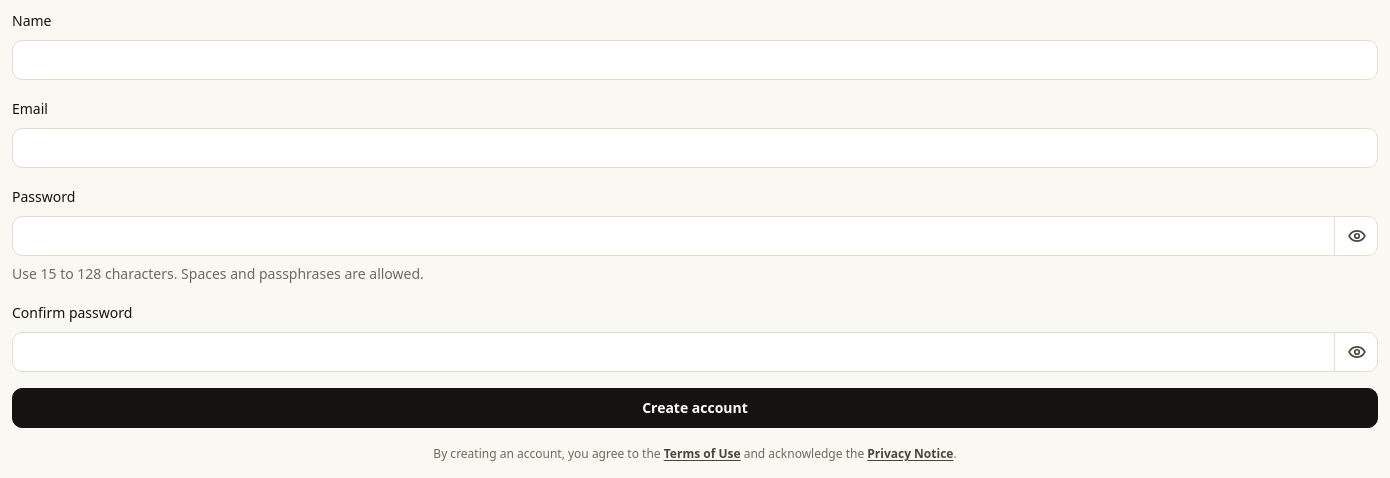
SignupForm › can toggle password visibility without losing value or focus
Type "a sufficiently long password" into the password field labelled "Password". click: (695, 236)
box: [12,216,1378,256]
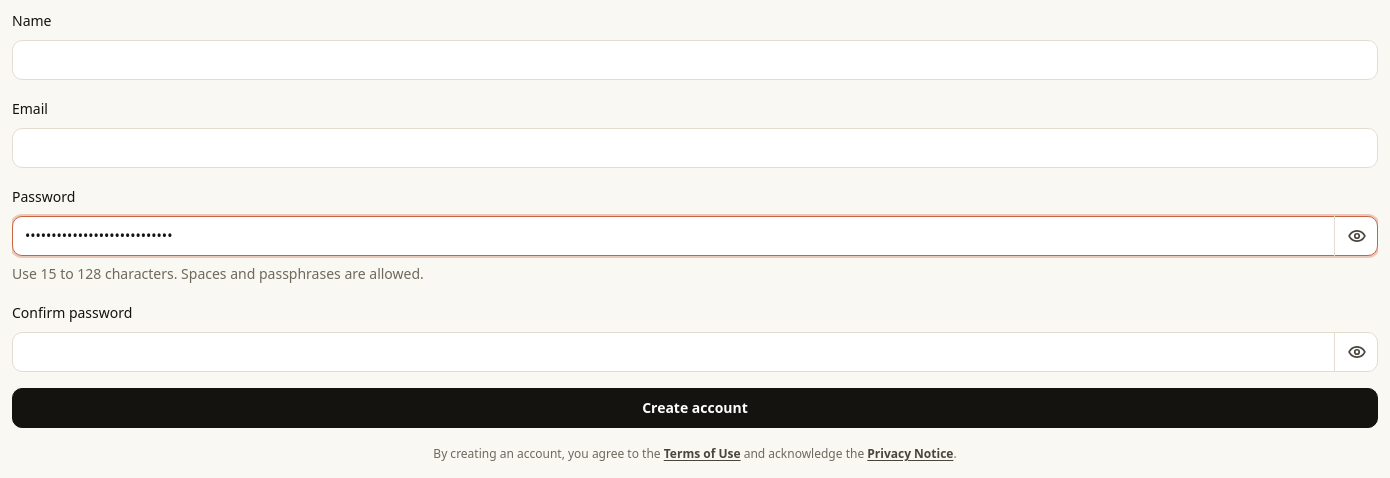
Click the 1st button named "show". click: (1356, 236)
box: [1334,216,1378,256]
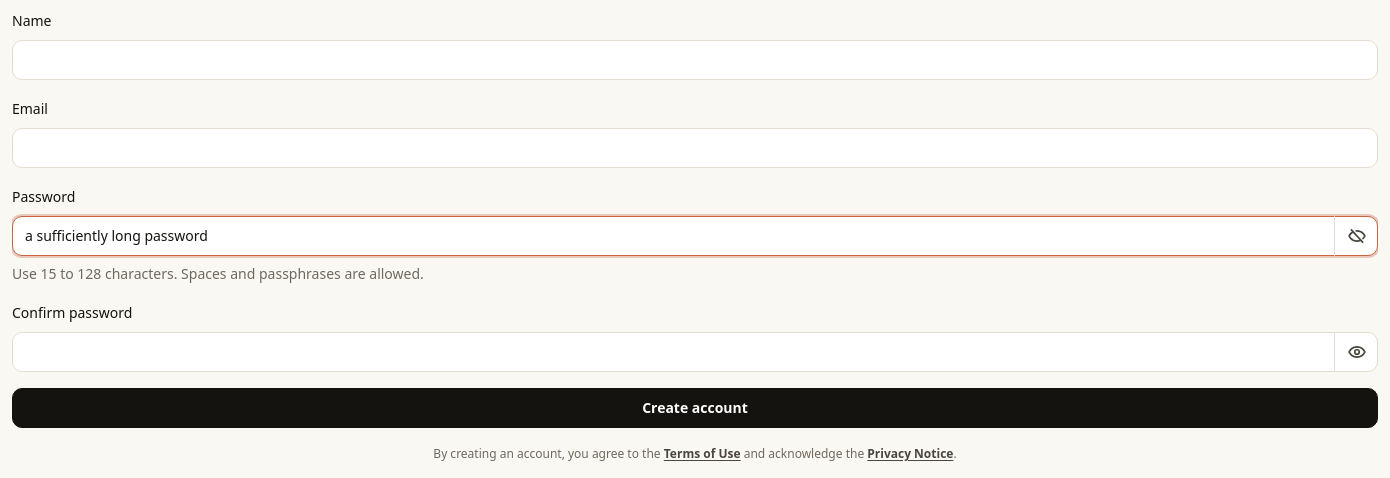
Expected: the field labelled "Password" shows its text, [12,216,1378,256]
